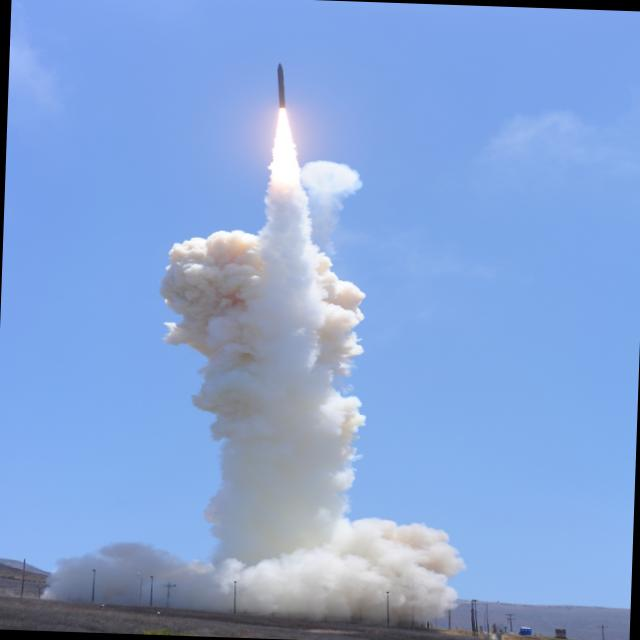rocket: (257, 57, 301, 385)
